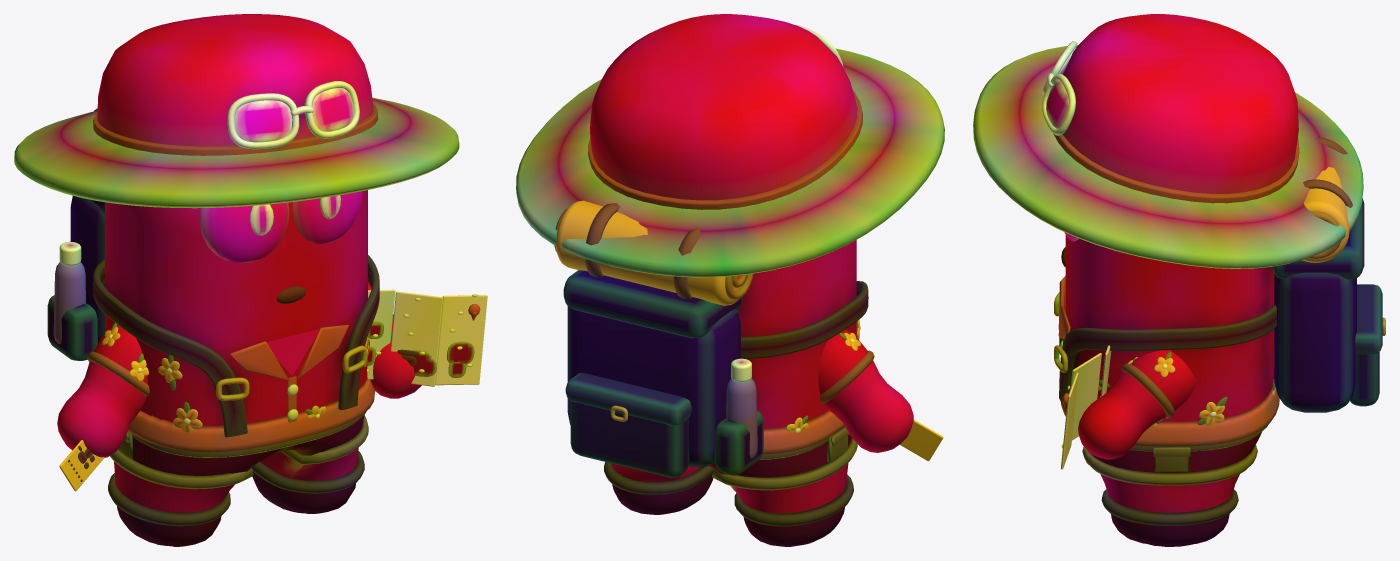
File: Tourist.fbx
3 views of the same model, side by side, from view 1: azimuth 30°, elevation 25°; view 2: azimuth 150°, elevation 25°; view 3: azimuth 270°, elevation 25° (orthographic). The views are drawn at different scales.
Parts seen in each view (by area): view 1: Hat, Body, Backpack, Shirt, Prop_Map, Shorts, Arm_R, Eye_R, Eye_L, Arm_L, Prop_Ticket, Pupil_R; view 2: Hat, Backpack, Body, Arm_R, Shorts, Shirt, Prop_Ticket; view 3: Hat, Body, Backpack, Arm_L, Shorts, Shirt, Prop_Map.
Part boxes in pixels (x1,y1,x2,y2): Hat: (14, 14, 459, 208); Body: (105, 190, 367, 546); Backpack: (47, 108, 379, 437); Shirt: (128, 324, 375, 452); Prop_Map: (367, 289, 487, 386); Shorts: (108, 411, 368, 526); Arm_R: (57, 322, 149, 457); Eye_R: (199, 202, 289, 262); Eye_L: (292, 191, 362, 244); Arm_L: (368, 282, 421, 398); Prop_Ticket: (59, 440, 104, 491); Pupil_R: (250, 204, 273, 235); Hat: (516, 14, 944, 277); Backpack: (554, 200, 868, 477); Body: (611, 240, 856, 546); Arm_R: (818, 329, 913, 452); Shorts: (604, 426, 857, 526); Shirt: (762, 320, 860, 454); Prop_Ticket: (899, 420, 943, 461); Hat: (973, 14, 1363, 268); Body: (1065, 235, 1274, 546); Backpack: (1054, 138, 1385, 412); Arm_L: (1078, 350, 1196, 459); Shorts: (1082, 423, 1269, 525); Shirt: (1058, 276, 1279, 446); Prop_Map: (1061, 345, 1111, 469).
Bounding box in the file's own units: 1 × 1.18 × 0.951.
